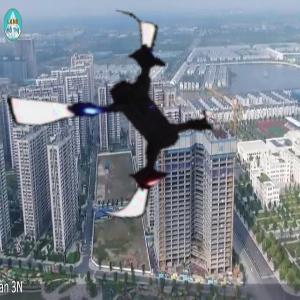drone: (7, 8, 227, 228)
